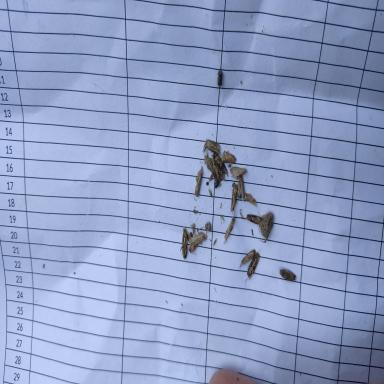pbw: (200, 148, 218, 182), (244, 252, 260, 288), (242, 207, 262, 233), (223, 208, 235, 244), (212, 152, 228, 176), (239, 249, 256, 268), (230, 182, 238, 214), (190, 226, 204, 244), (279, 268, 296, 282), (221, 150, 237, 164), (195, 166, 202, 197), (180, 231, 187, 262), (229, 166, 247, 178), (206, 139, 220, 154), (238, 175, 245, 202), (246, 192, 257, 206), (189, 242, 199, 256), (183, 225, 191, 242), (203, 139, 207, 152)
